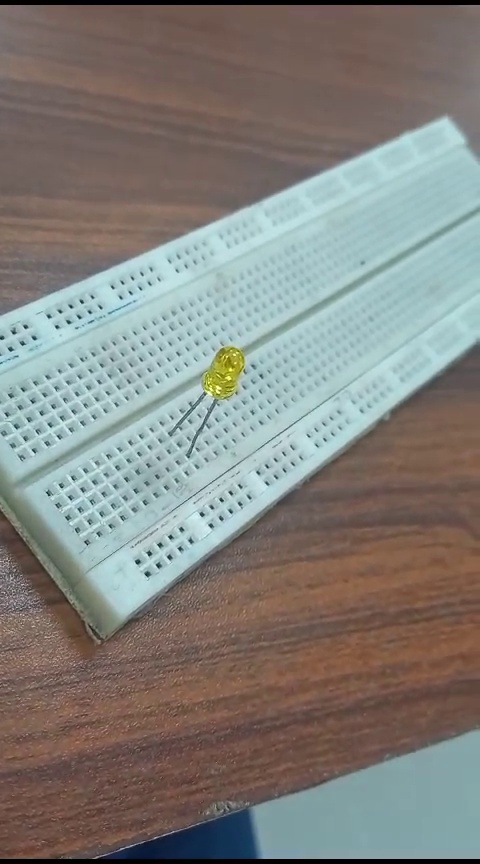LED: (168, 343, 246, 452)
